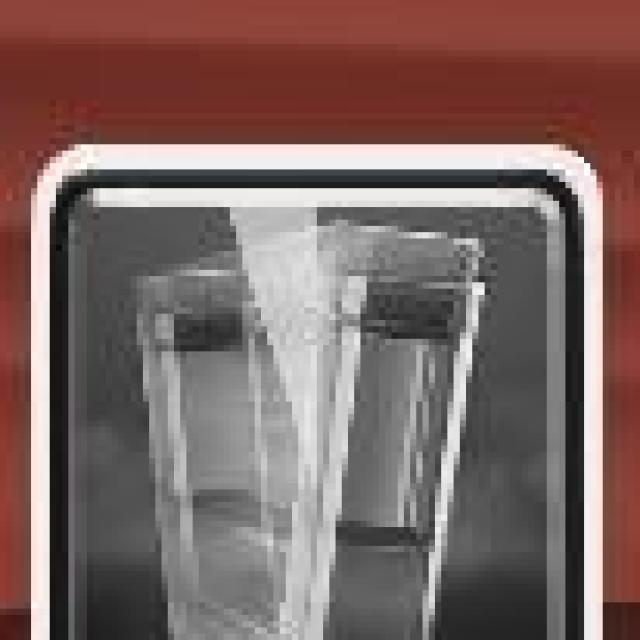Clone_Spell: (23, 140, 605, 640)
